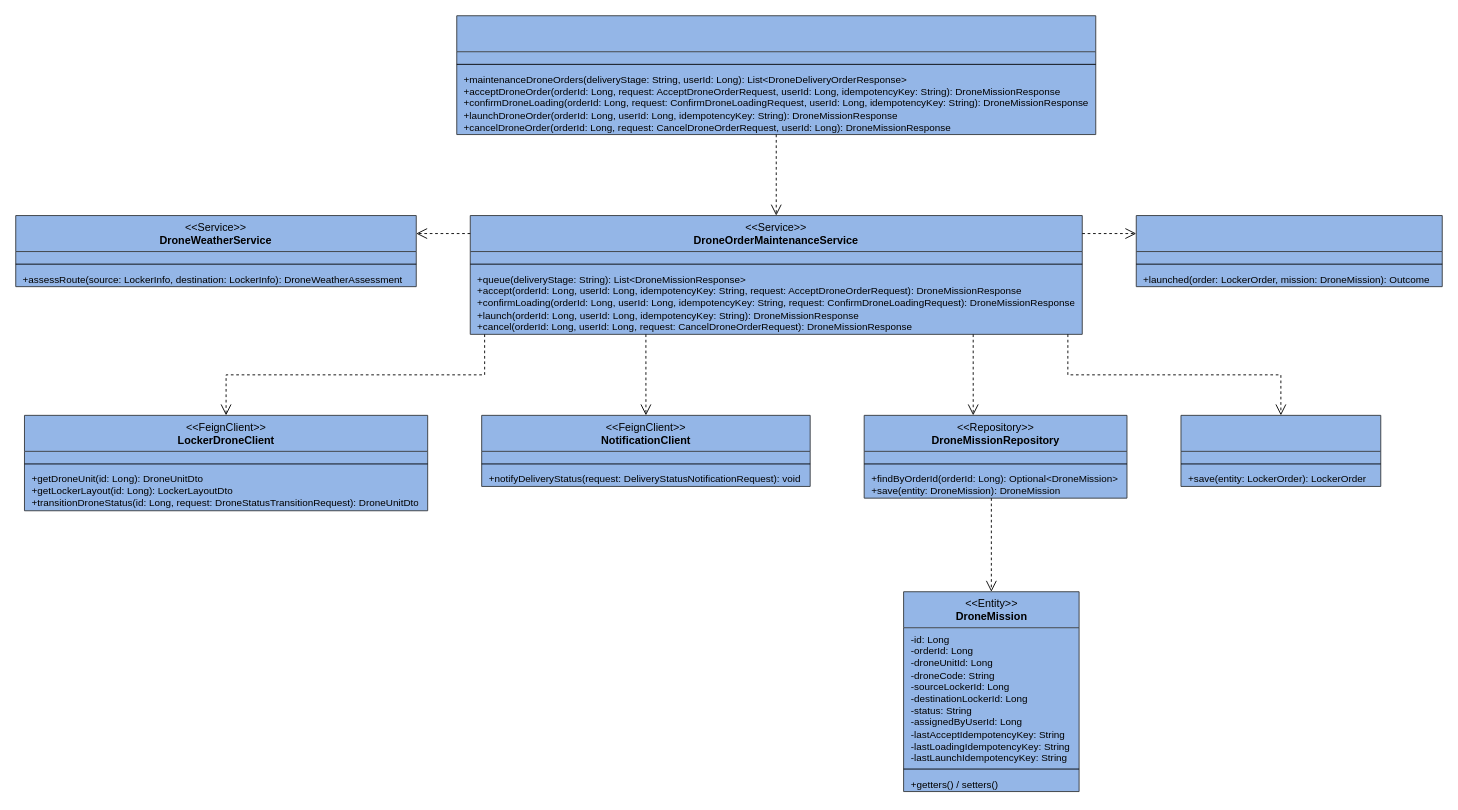
Some shapes in this 1458 by 810 pixel diagram are drawn without their labels. Here are the shapes that lost their labels. From the top down, the box of each, then its label:
(456, 15, 1096, 135): <<Controller>> OrderController
(1135, 215, 1442, 287): <<Component>> DroneDeliveryMailer
(1180, 414, 1381, 486): <<Repository>> LockerOrderRepository
